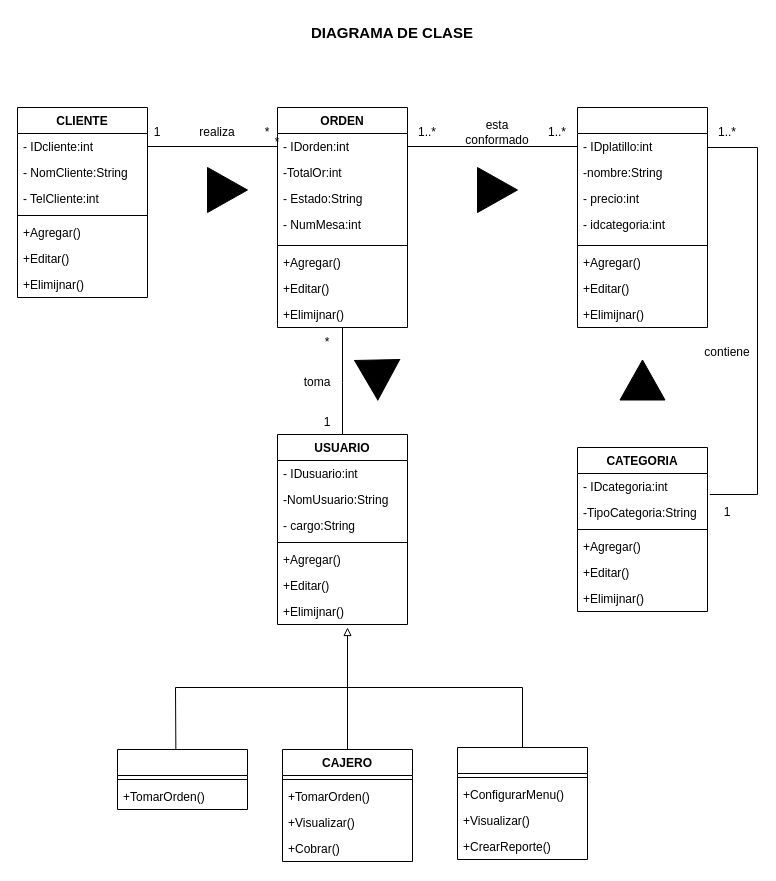
Image size: 776x881. Some labels were removed from this diagram. Each missing label, with the box of its shape:
ADMINISTRADOR: (456, 746, 588, 860)
MENU: (576, 106, 708, 328)
MESERO: (116, 748, 248, 810)
